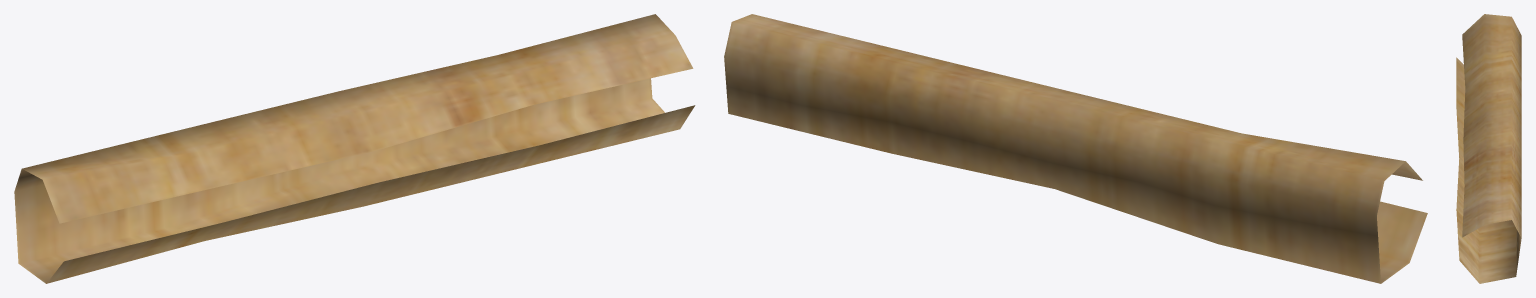
Rendered from parchmentroll.glb.
3 renders of one model, left to right at view 1: azimuth 30°, elevation 25°; view 2: azimuth 150°, elevation 25°; view 3: azimuth 270°, elevation 25°, orthographic. The views are drawn at different scales.
Visible parts, largest first — view 1: Grid; view 2: Grid; view 3: Grid.
Boxes of the visible parts, bbox=[...] form: Grid: bbox=[14, 14, 695, 283]; Grid: bbox=[724, 14, 1427, 283]; Grid: bbox=[1456, 14, 1521, 283].
Size of the model in its own units: 2 by 0.3061 by 0.2708.
1 material, 1 textured.
